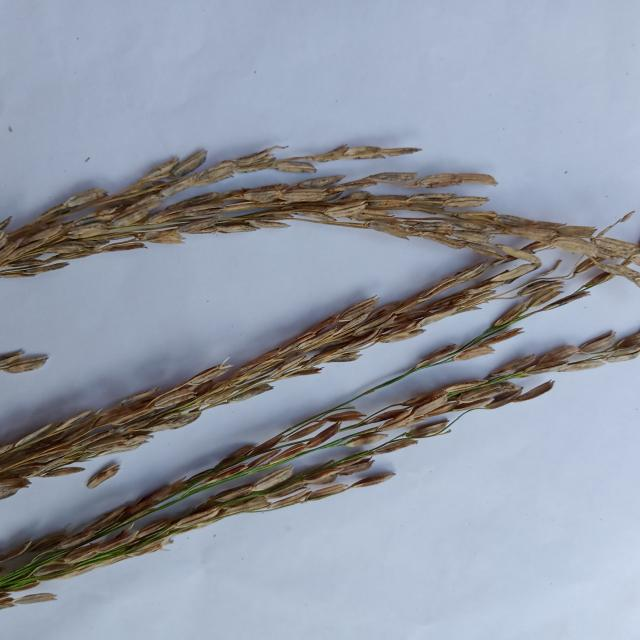Neck_Blast: (0, 330, 636, 598), (0, 263, 501, 500), (0, 152, 560, 274)
